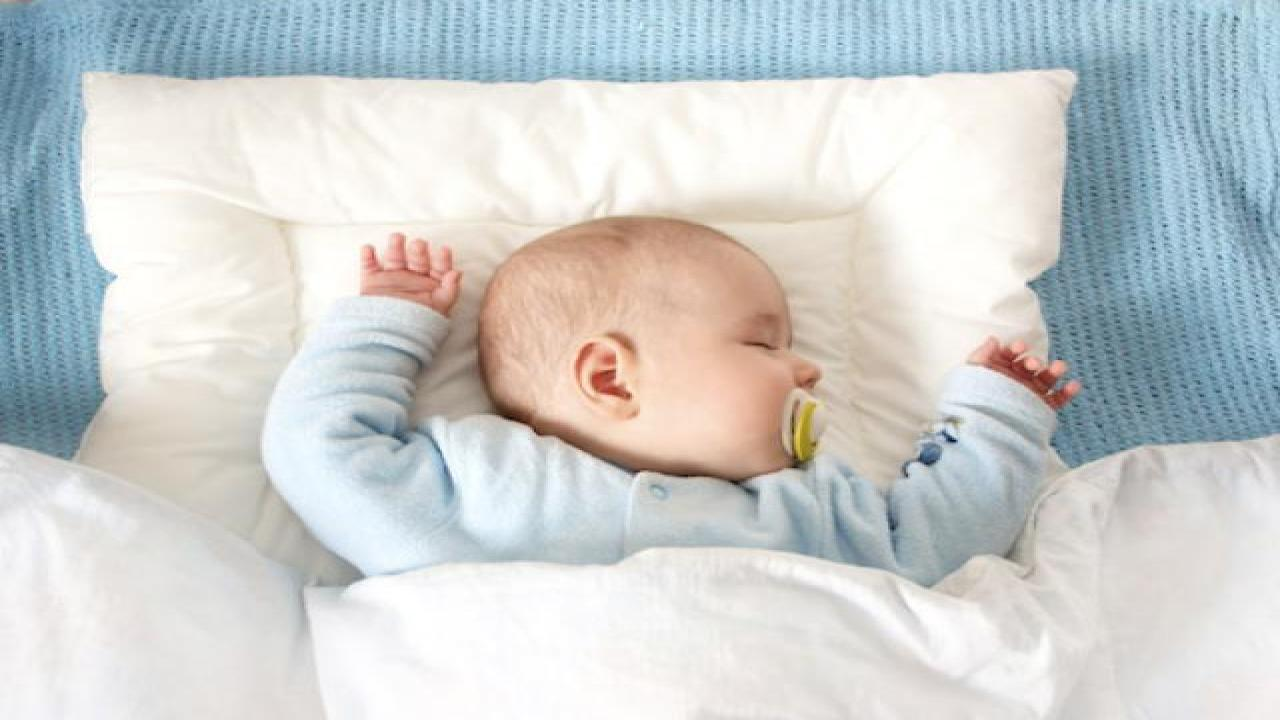hand: (351, 234, 466, 310), (968, 342, 1080, 405)
